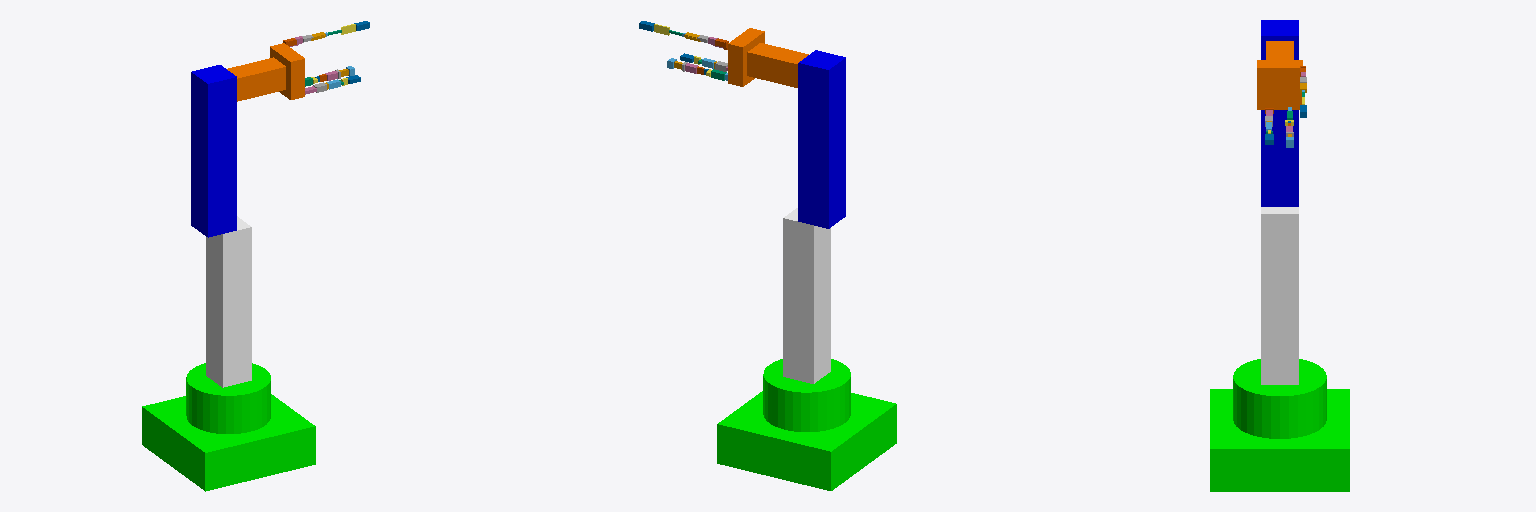
--- Render facts (derived) ---
Views: 3 orthographic renders of the robot side by side, from view 1: azimuth 30°, elevation 25°; view 2: azimuth 150°, elevation 25°; view 3: azimuth 270°, elevation 25°.
Model robot with 34 links and 33 joints (30 revolute, 1 continuous, 2 fixed), rooted at base_link, posed all joints at 0.
Links seen in each view (by area): view 1: base_link, arm_link, support_link, wrist_link, palm_link; view 2: base_link, arm_link, support_link, wrist_link, palm_link; view 3: base_link, support_link, arm_link, palm_link, wrist_link.
Link boxes in pixels (x1,y1,x2,y2): base_link: [142, 363, 315, 491]; arm_link: [191, 65, 236, 237]; support_link: [206, 216, 251, 387]; wrist_link: [227, 57, 285, 101]; palm_link: [270, 43, 304, 99]; base_link: [717, 359, 896, 490]; arm_link: [798, 50, 845, 228]; support_link: [783, 208, 830, 383]; wrist_link: [747, 43, 808, 87]; palm_link: [728, 28, 764, 86]; base_link: [1210, 359, 1349, 491]; support_link: [1261, 207, 1298, 384]; arm_link: [1261, 20, 1298, 206]; palm_link: [1257, 60, 1302, 109]; wrist_link: [1266, 41, 1293, 59].
Size in the robot's own frame: 1.4 by 0.75 by 2.54 metres.
Geometry: primitives only (box / cylinder / sphere), no mesh files.

robot.urdf — robot:
<?xml version='1.0' encoding='utf-8'?>
<robot name="robot">
  <link name="base_link">
    <visual>
      <origin xyz="0 0 0.125" rpy="0 0 0" />
      <geometry>
        <box size="0.75 0.75 0.25" />
      </geometry>
      <material name="green" />
    </visual>
    <visual>
      <origin xyz="0 0 0.375" rpy="0 0 0" />
      <geometry>
        <cylinder length="0.25" radius="0.25" />
      </geometry>
      <material name="green">
        <color rgba="0 1 0 1" />
      </material>
    </visual>
    <collision>
      <geometry>
        <box size="0.75 0.75 0.5" />
      </geometry>
    </collision>
    <inertial>
      <mass value="0.5" />
      <inertia ixx="0.034" ixy="0.0" ixz="0.0" iyy="0.034" iyz="0.0" izz="0.034" />
    </inertial>
  </link>
  <link name="support_link">
    <visual>
      <origin xyz="0 0 0.5" rpy="0 0 0" />
      <geometry>
        <box size="0.2 0.2 1" />
      </geometry>
      <material name="white">
        <color rgba="1 1 1 1" />
      </material>
    </visual>
    <collision>
      <geometry>
        <box size="0.2 0.2 1" />
      </geometry>
    </collision>
    <inertial>
      <mass value="0.1" />
      <inertia ixx="0.01" ixy="0.0" ixz="0.0" iyy="0.01" iyz="0.0" izz="0.01" />
    </inertial>
  </link>
  <joint name="support_joint" type="continuous">
    <origin xyz="0 0 0.5" rpy="0 0 0" />
    <parent link="base_link" />
    <child link="support_link" />
    <axis xyz="0 0 1" />
  </joint>
  <link name="arm_link">
    <visual>
      <origin xyz="0 0 0.5" rpy="0 0 0" />
      <geometry>
        <box size="0.2 0.2 1" />
      </geometry>
      <material name="blue">
        <color rgba="0 0 1 1" />
      </material>
    </visual>
    <collision>
      <geometry>
        <box size="0.2 0.2 1" />
      </geometry>
    </collision>
    <inertial>
      <mass value="0.1" />
      <inertia ixx="0.01" ixy="0.0" ixz="0.0" iyy="0.01" iyz="0.0" izz="0.01" />
    </inertial>
  </link>
  <joint name="arm_joint" type="revolute">
    <origin xyz="-0.1 0 1" rpy="0 0 0" />
    <parent link="support_link" />
    <child link="arm_link" />
    <axis xyz="0 1 0" />
    <limit lower="-3.14" upper="3.14" effort="1.0" velocity="1.0" />
  </joint>
  <link name="wrist_link">
    <visual>
      <origin xyz="0 0 0.25" rpy="0 0 0" />
      <geometry>
        <box size="0.15 0.15 0.5" />
      </geometry>
      <material name="orange">
        <color rgba="1 0.5 0 1" />
      </material>
    </visual>
    <collision>
      <geometry>
        <box size="0.15 0.15 0.5" />
      </geometry>
    </collision>
    <inertial>
      <mass value="0.1" />
      <inertia ixx="0.01" ixy="0.0" ixz="0.0" iyy="0.01" iyz="0.0" izz="0.01" />
    </inertial>
  </link>
  <joint name="wrist_joint" type="fixed">
    <origin xyz="0 0 0.9" rpy="0 1.571 0" />
    <parent link="arm_link" />
    <child link="wrist_link" />
  </joint>
  <link name="palm_link">
    <visual>
      <origin xyz="0 0 0.05" rpy="0 0 0" />
      <geometry>
        <box size="0.25 0.25 0.1" />
      </geometry>
      <material name="orange" />
    </visual>
    <collision>
      <geometry>
        <box size="0.25 0.25 0.1" />
      </geometry>
    </collision>
    <inertial>
      <mass value="0.1" />
      <inertia ixx="0.01" ixy="0.0" ixz="0.0" iyy="0.01" iyz="0.0" izz="0.01" />
    </inertial>
  </link>
  <joint name="palm_joint" type="fixed">
    <origin xyz="0 0 0.45" rpy="0 0 0" />
    <parent link="wrist_link" />
    <child link="palm_link" />
  </joint>
  <link name="finger_link_0_0">
    <visual>
      <origin xyz="0 0 0.0105" rpy="0 0 0" />
      <geometry>
        <box size="0.049 0.025 0.021" />
      </geometry>
    </visual>
    <collision>
      <geometry>
        <box size="0.049 0.025 0.021" />
      </geometry>
    </collision>
    <inertial>
      <mass value="0.008" />
      <inertia ixx="0.0" iyy="0.0" izz="0.0" ixy="0" ixz="0" iyz="0" />
    </inertial>
  </link>
  <joint name="finger_joint_palm_link_to_finger_link_0_0" type="revolute">
    <origin xyz="-0.113 0.125 0.1" rpy="0 0 0" />
    <parent link="palm_link" />
    <child link="finger_link_0_0" />
    <axis xyz="-1.0 0.0 0.0" />
    <limit lower="-3.142" upper="3.142" effort="10" velocity="10" />
  </joint>
  <link name="finger_link_0_1">
    <visual>
      <origin xyz="0 0 0.0355" rpy="0 0 0" />
      <geometry>
        <box size="0.04 0.019 0.071" />
      </geometry>
    </visual>
    <collision>
      <geometry>
        <box size="0.04 0.019 0.071" />
      </geometry>
    </collision>
    <inertial>
      <mass value="0.016" />
      <inertia ixx="0.0" iyy="0.0" izz="0.0" ixy="0" ixz="0" iyz="0" />
    </inertial>
  </link>
  <joint name="finger_joint_finger_link_0_0_to_finger_link_0_1" type="revolute">
    <origin xyz="0.0 0.0 0.021" rpy="0 0 0" />
    <parent link="finger_link_0_0" />
    <child link="finger_link_0_1" />
    <axis xyz="0.0 1.0 0.0" />
    <limit lower="-3.142" upper="3.142" effort="10" velocity="10" />
  </joint>
  <link name="finger_link_0_2">
    <visual>
      <origin xyz="0 0 0.0385" rpy="0 0 0" />
      <geometry>
        <box size="0.026 0.012 0.077" />
      </geometry>
    </visual>
    <collision>
      <geometry>
        <box size="0.026 0.012 0.077" />
      </geometry>
    </collision>
    <inertial>
      <mass value="0.007" />
      <inertia ixx="0.0" iyy="0.0" izz="0.0" ixy="0" ixz="0" iyz="0" />
    </inertial>
  </link>
  <joint name="finger_joint_finger_link_0_1_to_finger_link_0_2" type="revolute">
    <origin xyz="0.0 0.0 0.071" rpy="0 0 0" />
    <parent link="finger_link_0_1" />
    <child link="finger_link_0_2" />
    <axis xyz="1.0 0.0 0.0" />
    <limit lower="-3.142" upper="3.142" effort="10" velocity="10" />
  </joint>
  <link name="finger_link_0_3">
    <visual>
      <origin xyz="0 0 0.0495" rpy="0 0 0" />
      <geometry>
        <box size="0.016 0.041 0.099" />
      </geometry>
    </visual>
    <collision>
      <geometry>
        <box size="0.016 0.041 0.099" />
      </geometry>
    </collision>
    <inertial>
      <mass value="0.019" />
      <inertia ixx="0.0" iyy="0.0" izz="0.0" ixy="0" ixz="0" iyz="0" />
    </inertial>
  </link>
  <joint name="finger_joint_finger_link_0_2_to_finger_link_0_3" type="revolute">
    <origin xyz="0.0 0.0 0.077" rpy="0 0 0" />
    <parent link="finger_link_0_2" />
    <child link="finger_link_0_3" />
    <axis xyz="0.0 1.0 0.0" />
    <limit lower="-3.142" upper="3.142" effort="10" velocity="10" />
  </joint>
  <link name="finger_link_0_4">
    <visual>
      <origin xyz="0 0 0.0135" rpy="0 0 0" />
      <geometry>
        <box size="0.018 0.017 0.027" />
      </geometry>
    </visual>
    <collision>
      <geometry>
        <box size="0.018 0.017 0.027" />
      </geometry>
    </collision>
    <inertial>
      <mass value="0.002" />
      <inertia ixx="0.0" iyy="0.0" izz="0.0" ixy="0" ixz="0" iyz="0" />
    </inertial>
  </link>
  <joint name="finger_joint_finger_link_0_3_to_finger_link_0_4" type="revolute">
    <origin xyz="0.0 0.0 0.099" rpy="0 0 0" />
    <parent link="finger_link_0_3" />
    <child link="finger_link_0_4" />
    <axis xyz="1.0 1.0 0.0" />
    <limit lower="-3.142" upper="3.142" effort="10" velocity="10" />
  </joint>
  <link name="finger_link_0_5">
    <visual>
      <origin xyz="0 0 0.046" rpy="0 0 0" />
      <geometry>
        <box size="0.014 0.013 0.092" />
      </geometry>
    </visual>
    <collision>
      <geometry>
        <box size="0.014 0.013 0.092" />
      </geometry>
    </collision>
    <inertial>
      <mass value="0.005" />
      <inertia ixx="0.0" iyy="0.0" izz="0.0" ixy="0" ixz="0" iyz="0" />
    </inertial>
  </link>
  <joint name="finger_joint_finger_link_0_4_to_finger_link_0_5" type="revolute">
    <origin xyz="0.0 0.0 0.027" rpy="0 0 0" />
    <parent link="finger_link_0_4" />
    <child link="finger_link_0_5" />
    <axis xyz="0.0 1.0 0.0" />
    <limit lower="-3.142" upper="3.142" effort="10" velocity="10" />
  </joint>
  <link name="finger_link_0_6">
    <visual>
      <origin xyz="0 0 0.0495" rpy="0 0 0" />
      <geometry>
        <box size="0.048 0.011 0.099" />
      </geometry>
    </visual>
    <collision>
      <geometry>
        <box size="0.048 0.011 0.099" />
      </geometry>
    </collision>
    <inertial>
      <mass value="0.016" />
      <inertia ixx="0.0" iyy="0.0" izz="0.0" ixy="0" ixz="0" iyz="0" />
    </inertial>
  </link>
  <joint name="finger_joint_finger_link_0_5_to_finger_link_0_6" type="revolute">
    <origin xyz="0.0 0.0 0.092" rpy="0 0 0" />
    <parent link="finger_link_0_5" />
    <child link="finger_link_0_6" />
    <axis xyz="1.0 0.0 0.0" />
    <limit lower="-3.142" upper="3.142" effort="10" velocity="10" />
  </joint>
  <link name="finger_link_0_7">
    <visual>
      <origin xyz="0 0 0.044" rpy="0 0 0" />
      <geometry>
        <box size="0.035 0.038 0.088" />
      </geometry>
    </visual>
    <collision>
      <geometry>
        <box size="0.035 0.038 0.088" />
      </geometry>
    </collision>
    <inertial>
      <mass value="0.035" />
      <inertia ixx="0.0" iyy="0.0" izz="0.0" ixy="0" ixz="0" iyz="0" />
    </inertial>
  </link>
  <joint name="finger_joint_finger_link_0_6_to_finger_link_0_7" type="revolute">
    <origin xyz="0.0 0.0 0.099" rpy="0 0 0" />
    <parent link="finger_link_0_6" />
    <child link="finger_link_0_7" />
    <axis xyz="1.0 0.0 0.0" />
    <limit lower="-3.142" upper="3.142" effort="10" velocity="10" />
  </joint>
  <link name="finger_link_1_0">
    <visual>
      <origin xyz="0 0 0.0075" rpy="0 0 0" />
      <geometry>
        <box size="0.029 0.046 0.015" />
      </geometry>
    </visual>
    <collision>
      <geometry>
        <box size="0.029 0.046 0.015" />
      </geometry>
    </collision>
    <inertial>
      <mass value="0.006" />
      <inertia ixx="0.0" iyy="0.0" izz="0.0" ixy="0" ixz="0" iyz="0" />
    </inertial>
  </link>
  <joint name="finger_joint_palm_link_to_finger_link_1_0" type="revolute">
    <origin xyz="0.125 -0.057 0.1" rpy="0 0 0" />
    <parent link="palm_link" />
    <child link="finger_link_1_0" />
    <axis xyz="0.0 1.0 0.0" />
    <limit lower="-3.142" upper="3.142" effort="10" velocity="10" />
  </joint>
  <link name="finger_link_1_1">
    <visual>
      <origin xyz="0 0 0.045" rpy="0 0 0" />
      <geometry>
        <box size="0.021 0.04 0.09" />
      </geometry>
    </visual>
    <collision>
      <geometry>
        <box size="0.021 0.04 0.09" />
      </geometry>
    </collision>
    <inertial>
      <mass value="0.023" />
      <inertia ixx="0.0" iyy="0.0" izz="0.0" ixy="0" ixz="0" iyz="0" />
    </inertial>
  </link>
  <joint name="finger_joint_finger_link_1_0_to_finger_link_1_1" type="revolute">
    <origin xyz="0.0 0.0 0.015" rpy="0 0 0" />
    <parent link="finger_link_1_0" />
    <child link="finger_link_1_1" />
    <axis xyz="0.0 1.0 0.0" />
    <limit lower="-3.142" upper="3.142" effort="10" velocity="10" />
  </joint>
  <link name="finger_link_1_2">
    <visual>
      <origin xyz="0 0 0.0355" rpy="0 0 0" />
      <geometry>
        <box size="0.036 0.044 0.071" />
      </geometry>
    </visual>
    <collision>
      <geometry>
        <box size="0.036 0.044 0.071" />
      </geometry>
    </collision>
    <inertial>
      <mass value="0.034" />
      <inertia ixx="0.0" iyy="0.0" izz="0.0" ixy="0" ixz="0" iyz="0" />
    </inertial>
  </link>
  <joint name="finger_joint_finger_link_1_1_to_finger_link_1_2" type="revolute">
    <origin xyz="0.0 0.0 0.09" rpy="0 0 0" />
    <parent link="finger_link_1_1" />
    <child link="finger_link_1_2" />
    <axis xyz="0.0 1.0 0.0" />
    <limit lower="-3.142" upper="3.142" effort="10" velocity="10" />
  </joint>
  <link name="finger_link_1_3">
    <visual>
      <origin xyz="0 0 0.0075" rpy="0 0 0" />
      <geometry>
        <box size="0.034 0.028 0.015" />
      </geometry>
    </visual>
    <collision>
      <geometry>
        <box size="0.034 0.028 0.015" />
      </geometry>
    </collision>
    <inertial>
      <mass value="0.004" />
      <inertia ixx="0.0" iyy="0.0" izz="0.0" ixy="0" ixz="0" iyz="0" />
    </inertial>
  </link>
  <joint name="finger_joint_finger_link_1_2_to_finger_link_1_3" type="revolute">
    <origin xyz="0.0 0.0 0.071" rpy="0 0 0" />
    <parent link="finger_link_1_2" />
    <child link="finger_link_1_3" />
    <axis xyz="0.0 1.0 0.0" />
    <limit lower="-3.142" upper="3.142" effort="10" velocity="10" />
  </joint>
  <link name="finger_link_1_4">
    <visual>
      <origin xyz="0 0 0.039" rpy="0 0 0" />
      <geometry>
        <box size="0.037 0.033 0.078" />
      </geometry>
    </visual>
    <collision>
      <geometry>
        <box size="0.037 0.033 0.078" />
      </geometry>
    </collision>
    <inertial>
      <mass value="0.029" />
      <inertia ixx="0.0" iyy="0.0" izz="0.0" ixy="0" ixz="0" iyz="0" />
    </inertial>
  </link>
  <joint name="finger_joint_finger_link_1_3_to_finger_link_1_4" type="revolute">
    <origin xyz="0.0 0.0 0.015" rpy="0 0 0" />
    <parent link="finger_link_1_3" />
    <child link="finger_link_1_4" />
    <axis xyz="1.0 1.0 0.0" />
    <limit lower="-3.142" upper="3.142" effort="10" velocity="10" />
  </joint>
  <link name="finger_link_1_5">
    <visual>
      <origin xyz="0 0 0.01" rpy="0 0 0" />
      <geometry>
        <box size="0.014 0.039 0.02" />
      </geometry>
    </visual>
    <collision>
      <geometry>
        <box size="0.014 0.039 0.02" />
      </geometry>
    </collision>
    <inertial>
      <mass value="0.003" />
      <inertia ixx="0.0" iyy="0.0" izz="0.0" ixy="0" ixz="0" iyz="0" />
    </inertial>
  </link>
  <joint name="finger_joint_finger_link_1_4_to_finger_link_1_5" type="revolute">
    <origin xyz="0.0 0.0 0.078" rpy="0 0 0" />
    <parent link="finger_link_1_4" />
    <child link="finger_link_1_5" />
    <axis xyz="0.0 1.0 0.0" />
    <limit lower="-3.142" upper="3.142" effort="10" velocity="10" />
  </joint>
  <link name="finger_link_1_6">
    <visual>
      <origin xyz="0 0 0.019" rpy="0 0 0" />
      <geometry>
        <box size="0.041 0.015 0.038" />
      </geometry>
    </visual>
    <collision>
      <geometry>
        <box size="0.041 0.015 0.038" />
      </geometry>
    </collision>
    <inertial>
      <mass value="0.007" />
      <inertia ixx="0.0" iyy="0.0" izz="0.0" ixy="0" ixz="0" iyz="0" />
    </inertial>
  </link>
  <joint name="finger_joint_finger_link_1_5_to_finger_link_1_6" type="revolute">
    <origin xyz="0.0 0.0 0.02" rpy="0 0 0" />
    <parent link="finger_link_1_5" />
    <child link="finger_link_1_6" />
    <axis xyz="1.0 1.0 0.0" />
    <limit lower="-3.142" upper="3.142" effort="10" velocity="10" />
  </joint>
  <link name="finger_link_1_7">
    <visual>
      <origin xyz="0 0 0.039" rpy="0 0 0" />
      <geometry>
        <box size="0.026 0.045 0.078" />
      </geometry>
    </visual>
    <collision>
      <geometry>
        <box size="0.026 0.045 0.078" />
      </geometry>
    </collision>
    <inertial>
      <mass value="0.027" />
      <inertia ixx="0.0" iyy="0.0" izz="0.0" ixy="0" ixz="0" iyz="0" />
    </inertial>
  </link>
  <joint name="finger_joint_finger_link_1_6_to_finger_link_1_7" type="revolute">
    <origin xyz="0.0 0.0 0.038" rpy="0 0 0" />
    <parent link="finger_link_1_6" />
    <child link="finger_link_1_7" />
    <axis xyz="1.0 0.0 0.0" />
    <limit lower="-3.142" upper="3.142" effort="10" velocity="10" />
  </joint>
  <link name="finger_link_2_0">
    <visual>
      <origin xyz="0 0 0.0375" rpy="0 0 0" />
      <geometry>
        <box size="0.033 0.032 0.075" />
      </geometry>
    </visual>
    <collision>
      <geometry>
        <box size="0.033 0.032 0.075" />
      </geometry>
    </collision>
    <inertial>
      <mass value="0.024" />
      <inertia ixx="0.0" iyy="0.0" izz="0.0" ixy="0" ixz="0" iyz="0" />
    </inertial>
  </link>
  <joint name="finger_joint_palm_link_to_finger_link_2_0" type="revolute">
    <origin xyz="-0.119 0.125 0.1" rpy="0 0 0" />
    <parent link="palm_link" />
    <child link="finger_link_2_0" />
    <axis xyz="-1.0 0.0 0.0" />
    <limit lower="-3.142" upper="3.142" effort="10" velocity="10" />
  </joint>
  <link name="finger_link_2_1">
    <visual>
      <origin xyz="0 0 0.024" rpy="0 0 0" />
      <geometry>
        <box size="0.036 0.025 0.048" />
      </geometry>
    </visual>
    <collision>
      <geometry>
        <box size="0.036 0.025 0.048" />
      </geometry>
    </collision>
    <inertial>
      <mass value="0.013" />
      <inertia ixx="0.0" iyy="0.0" izz="0.0" ixy="0" ixz="0" iyz="0" />
    </inertial>
  </link>
  <joint name="finger_joint_finger_link_2_0_to_finger_link_2_1" type="revolute">
    <origin xyz="0.0 0.0 0.075" rpy="0 0 0" />
    <parent link="finger_link_2_0" />
    <child link="finger_link_2_1" />
    <axis xyz="1.0 0.0 0.0" />
    <limit lower="-3.142" upper="3.142" effort="10" velocity="10" />
  </joint>
  <link name="finger_link_2_2">
    <visual>
      <origin xyz="0 0 0.033" rpy="0 0 0" />
      <geometry>
        <box size="0.021 0.04 0.066" />
      </geometry>
    </visual>
    <collision>
      <geometry>
        <box size="0.021 0.04 0.066" />
      </geometry>
    </collision>
    <inertial>
      <mass value="0.017" />
      <inertia ixx="0.0" iyy="0.0" izz="0.0" ixy="0" ixz="0" iyz="0" />
    </inertial>
  </link>
  <joint name="finger_joint_finger_link_2_1_to_finger_link_2_2" type="revolute">
    <origin xyz="0.0 0.0 0.048" rpy="0 0 0" />
    <parent link="finger_link_2_1" />
    <child link="finger_link_2_2" />
    <axis xyz="1.0 1.0 0.0" />
    <limit lower="-3.142" upper="3.142" effort="10" velocity="10" />
  </joint>
  <link name="finger_link_2_3">
    <visual>
      <origin xyz="0 0 0.043" rpy="0 0 0" />
      <geometry>
        <box size="0.014 0.038 0.086" />
      </geometry>
    </visual>
    <collision>
      <geometry>
        <box size="0.014 0.038 0.086" />
      </geometry>
    </collision>
    <inertial>
      <mass value="0.014" />
      <inertia ixx="0.0" iyy="0.0" izz="0.0" ixy="0" ixz="0" iyz="0" />
    </inertial>
  </link>
  <joint name="finger_joint_finger_link_2_2_to_finger_link_2_3" type="revolute">
    <origin xyz="0.0 0.0 0.066" rpy="0 0 0" />
    <parent link="finger_link_2_2" />
    <child link="finger_link_2_3" />
    <axis xyz="1.0 0.0 0.0" />
    <limit lower="-3.142" upper="3.142" effort="10" velocity="10" />
  </joint>
  <link name="finger_link_3_0">
    <visual>
      <origin xyz="0 0 0.028" rpy="0 0 0" />
      <geometry>
        <box size="0.036 0.02 0.056" />
      </geometry>
    </visual>
    <collision>
      <geometry>
        <box size="0.036 0.02 0.056" />
      </geometry>
    </collision>
    <inertial>
      <mass value="0.012" />
      <inertia ixx="0.0" iyy="0.0" izz="0.0" ixy="0" ixz="0" iyz="0" />
    </inertial>
  </link>
  <joint name="finger_joint_palm_link_to_finger_link_3_0" type="revolute">
    <origin xyz="0.125 0.052 0.1" rpy="0 0 0" />
    <parent link="palm_link" />
    <child link="finger_link_3_0" />
    <axis xyz="0.0 1.0 0.0" />
    <limit lower="-3.142" upper="3.142" effort="10" velocity="10" />
  </joint>
  <link name="finger_link_3_1">
    <visual>
      <origin xyz="0 0 0.0445" rpy="0 0 0" />
      <geometry>
        <box size="0.041 0.031 0.089" />
      </geometry>
    </visual>
    <collision>
      <geometry>
        <box size="0.041 0.031 0.089" />
      </geometry>
    </collision>
    <inertial>
      <mass value="0.034" />
      <inertia ixx="0.0" iyy="0.0" izz="0.0" ixy="0" ixz="0" iyz="0" />
    </inertial>
  </link>
  <joint name="finger_joint_finger_link_3_0_to_finger_link_3_1" type="revolute">
    <origin xyz="0.0 0.0 0.056" rpy="0 0 0" />
    <parent link="finger_link_3_0" />
    <child link="finger_link_3_1" />
    <axis xyz="0.0 1.0 0.0" />
    <limit lower="-3.142" upper="3.142" effort="10" velocity="10" />
  </joint>
  <link name="finger_link_3_2">
    <visual>
      <origin xyz="0 0 0.0145" rpy="0 0 0" />
      <geometry>
        <box size="0.022 0.046 0.029" />
      </geometry>
    </visual>
    <collision>
      <geometry>
        <box size="0.022 0.046 0.029" />
      </geometry>
    </collision>
    <inertial>
      <mass value="0.009" />
      <inertia ixx="0.0" iyy="0.0" izz="0.0" ixy="0" ixz="0" iyz="0" />
    </inertial>
  </link>
  <joint name="finger_joint_finger_link_3_1_to_finger_link_3_2" type="revolute">
    <origin xyz="0.0 0.0 0.089" rpy="0 0 0" />
    <parent link="finger_link_3_1" />
    <child link="finger_link_3_2" />
    <axis xyz="1.0 0.0 0.0" />
    <limit lower="-3.142" upper="3.142" effort="10" velocity="10" />
  </joint>
  <link name="finger_link_3_3">
    <visual>
      <origin xyz="0 0 0.0115" rpy="0 0 0" />
      <geometry>
        <box size="0.032 0.016 0.023" />
      </geometry>
    </visual>
    <collision>
      <geometry>
        <box size="0.032 0.016 0.023" />
      </geometry>
    </collision>
    <inertial>
      <mass value="0.004" />
      <inertia ixx="0.0" iyy="0.0" izz="0.0" ixy="0" ixz="0" iyz="0" />
    </inertial>
  </link>
  <joint name="finger_joint_finger_link_3_2_to_finger_link_3_3" type="revolute">
    <origin xyz="0.0 0.0 0.029" rpy="0 0 0" />
    <parent link="finger_link_3_2" />
    <child link="finger_link_3_3" />
    <axis xyz="0.0 1.0 0.0" />
    <limit lower="-3.142" upper="3.142" effort="10" velocity="10" />
  </joint>
  <link name="finger_link_3_4">
    <visual>
      <origin xyz="0 0 0.023" rpy="0 0 0" />
      <geometry>
        <box size="0.039 0.017 0.046" />
      </geometry>
    </visual>
    <collision>
      <geometry>
        <box size="0.039 0.017 0.046" />
      </geometry>
    </collision>
    <inertial>
      <mass value="0.009" />
      <inertia ixx="0.0" iyy="0.0" izz="0.0" ixy="0" ixz="0" iyz="0" />
    </inertial>
  </link>
  <joint name="finger_joint_finger_link_3_3_to_finger_link_3_4" type="revolute">
    <origin xyz="0.0 0.0 0.023" rpy="0 0 0" />
    <parent link="finger_link_3_3" />
    <child link="finger_link_3_4" />
    <axis xyz="0.0 1.0 0.0" />
    <limit lower="-3.142" upper="3.142" effort="10" velocity="10" />
  </joint>
  <link name="finger_link_3_5">
    <visual>
      <origin xyz="0 0 0.037" rpy="0 0 0" />
      <geometry>
        <box size="0.038 0.035 0.074" />
      </geometry>
    </visual>
    <collision>
      <geometry>
        <box size="0.038 0.035 0.074" />
      </geometry>
    </collision>
    <inertial>
      <mass value="0.03" />
      <inertia ixx="0.0" iyy="0.0" izz="0.0" ixy="0" ixz="0" iyz="0" />
    </inertial>
  </link>
  <joint name="finger_joint_finger_link_3_4_to_finger_link_3_5" type="revolute">
    <origin xyz="0.0 0.0 0.046" rpy="0 0 0" />
    <parent link="finger_link_3_4" />
    <child link="finger_link_3_5" />
    <axis xyz="1.0 0.0 0.0" />
    <limit lower="-3.142" upper="3.142" effort="10" velocity="10" />
  </joint>
  <link name="finger_link_3_6">
    <visual>
      <origin xyz="0 0 0.0085" rpy="0 0 0" />
      <geometry>
        <box size="0.043 0.043 0.017" />
      </geometry>
    </visual>
    <collision>
      <geometry>
        <box size="0.043 0.043 0.017" />
      </geometry>
    </collision>
    <inertial>
      <mass value="0.009" />
      <inertia ixx="0.0" iyy="0.0" izz="0.0" ixy="0" ixz="0" iyz="0" />
    </inertial>
  </link>
  <joint name="finger_joint_finger_link_3_5_to_finger_link_3_6" type="revolute">
    <origin xyz="0.0 0.0 0.074" rpy="0 0 0" />
    <parent link="finger_link_3_5" />
    <child link="finger_link_3_6" />
    <axis xyz="0.0 1.0 0.0" />
    <limit lower="-3.142" upper="3.142" effort="10" velocity="10" />
  </joint>
  <link name="finger_link_3_7">
    <visual>
      <origin xyz="0 0 0.029" rpy="0 0 0" />
      <geometry>
        <box size="0.035 0.021 0.058" />
      </geometry>
    </visual>
    <collision>
      <geometry>
        <box size="0.035 0.021 0.058" />
      </geometry>
    </collision>
    <inertial>
      <mass value="0.013" />
      <inertia ixx="0.0" iyy="0.0" izz="0.0" ixy="0" ixz="0" iyz="0" />
    </inertial>
  </link>
  <joint name="finger_joint_finger_link_3_6_to_finger_link_3_7" type="revolute">
    <origin xyz="0.0 0.0 0.017" rpy="0 0 0" />
    <parent link="finger_link_3_6" />
    <child link="finger_link_3_7" />
    <axis xyz="0.0 1.0 0.0" />
    <limit lower="-3.142" upper="3.142" effort="10" velocity="10" />
  </joint>
  <link name="finger_link_3_8">
    <visual>
      <origin xyz="0 0 0.0175" rpy="0 0 0" />
      <geometry>
        <box size="0.047 0.045 0.035" />
      </geometry>
    </visual>
    <collision>
      <geometry>
        <box size="0.047 0.045 0.035" />
      </geometry>
    </collision>
    <inertial>
      <mass value="0.022" />
      <inertia ixx="0.0" iyy="0.0" izz="0.0" ixy="0" ixz="0" iyz="0" />
    </inertial>
  </link>
  <joint name="finger_joint_finger_link_3_7_to_finger_link_3_8" type="revolute">
    <origin xyz="0.0 0.0 0.058" rpy="0 0 0" />
    <parent link="finger_link_3_7" />
    <child link="finger_link_3_8" />
    <axis xyz="1.0 0.0 0.0" />
    <limit lower="-3.142" upper="3.142" effort="10" velocity="10" />
  </joint>
</robot>
